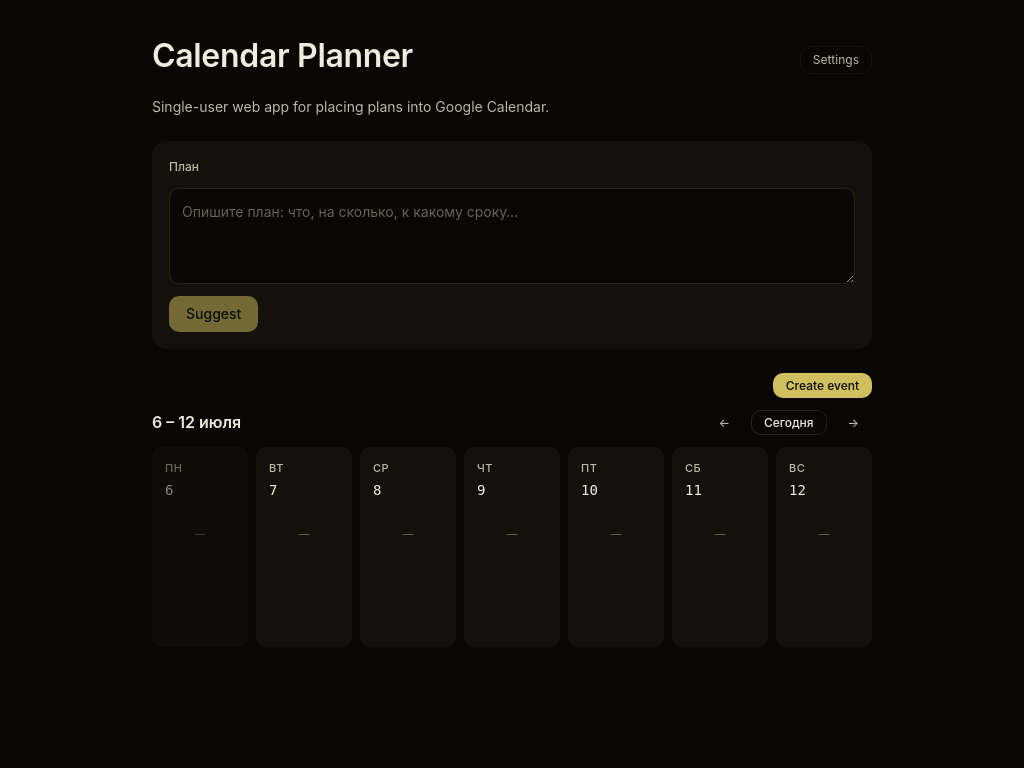
Scenario: App event creation flow › shows a success toast after the event is created
Expected: the element with test id "week-view" is shown, [152,410,872,646]
In the text box labelled "План": (512, 236) [169,188,855,284], type "x"
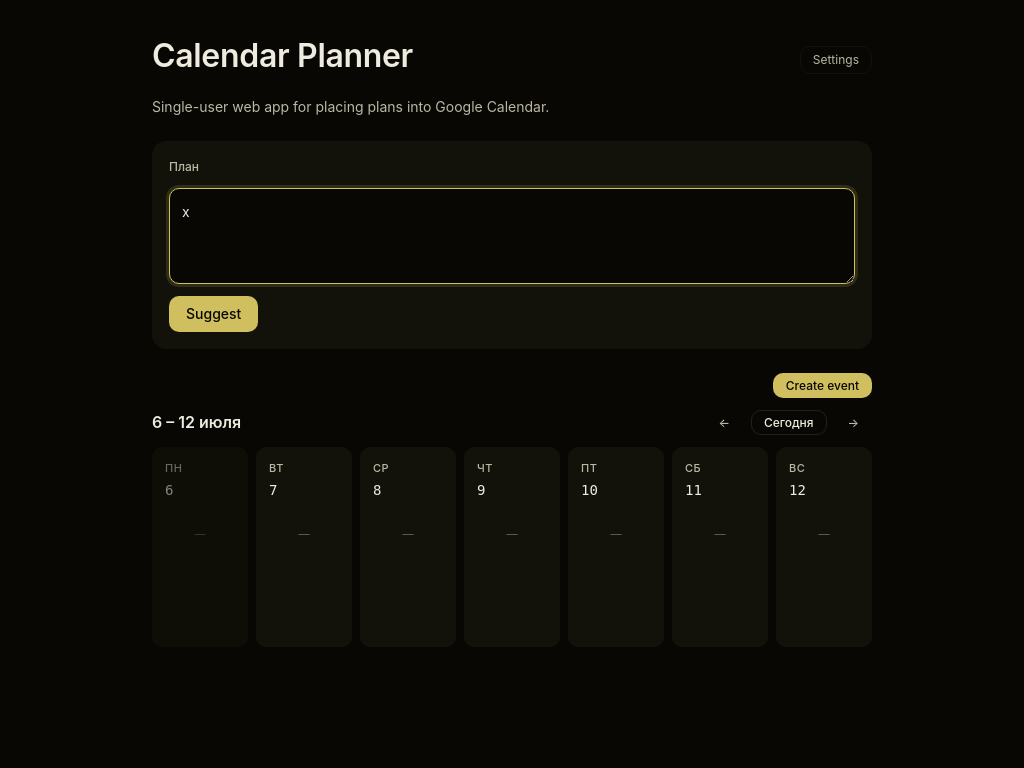
Click the button "Suggest": click(214, 314) [169,296,258,332]
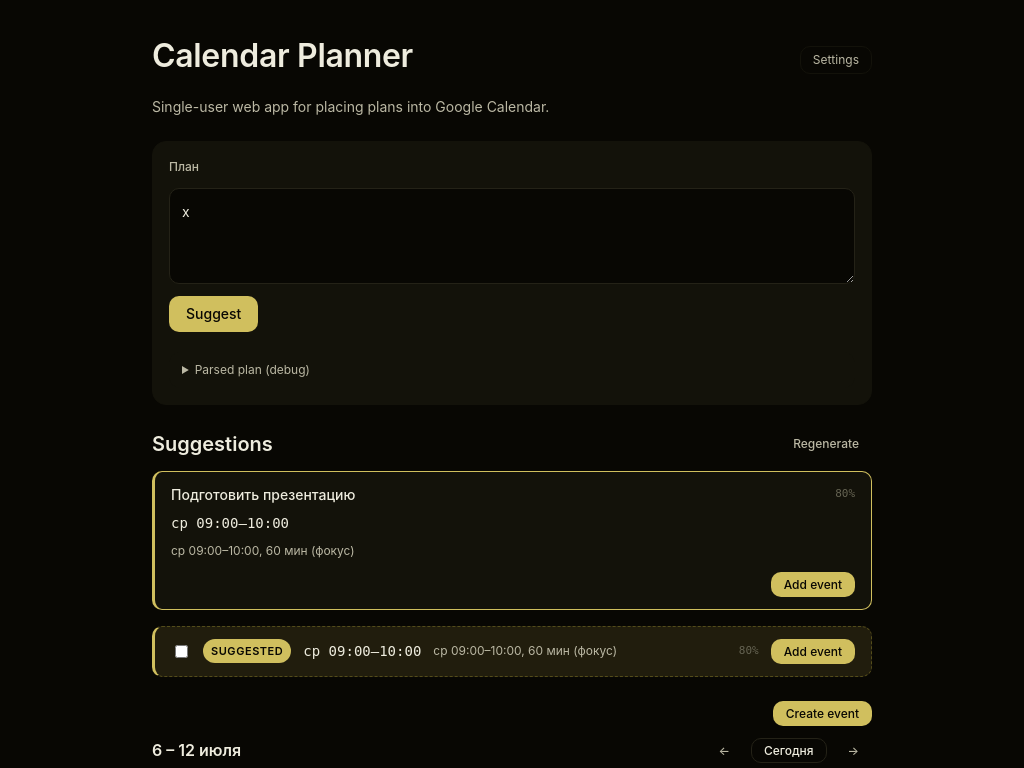
Result: the element with test id "plan-candidates" is shown at [152,470,872,610]
Click the 1st button "Add event": click(813, 584) [771,572,855,596]
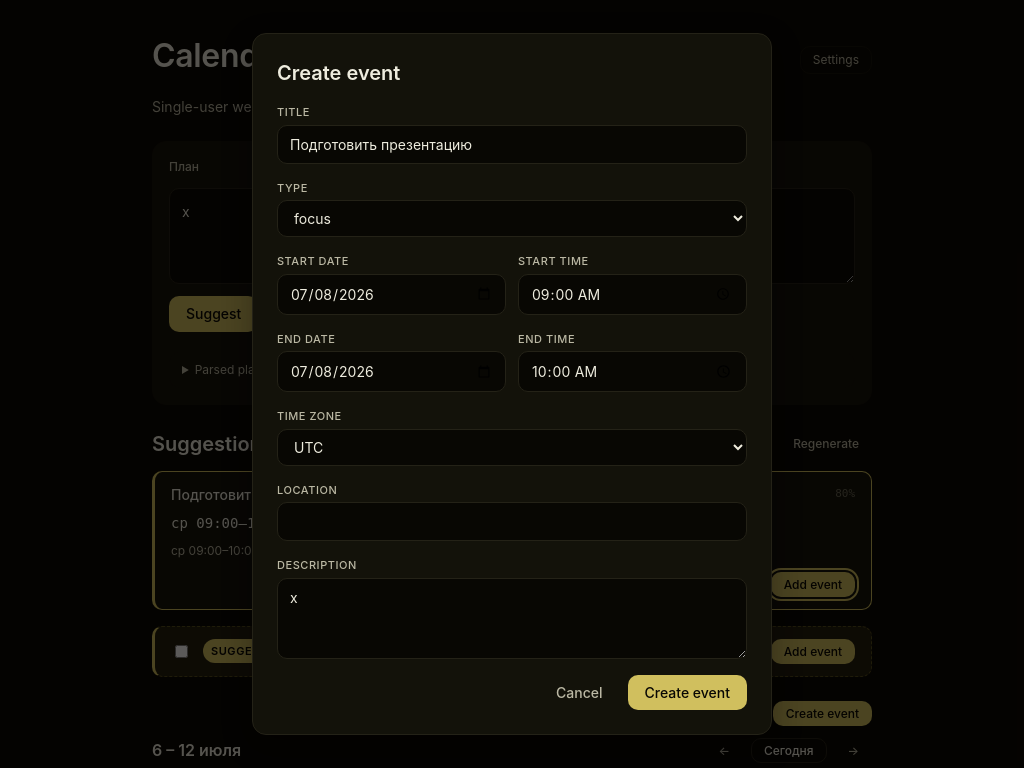
Click the button "Create event": click(687, 692) [628,674,747,710]
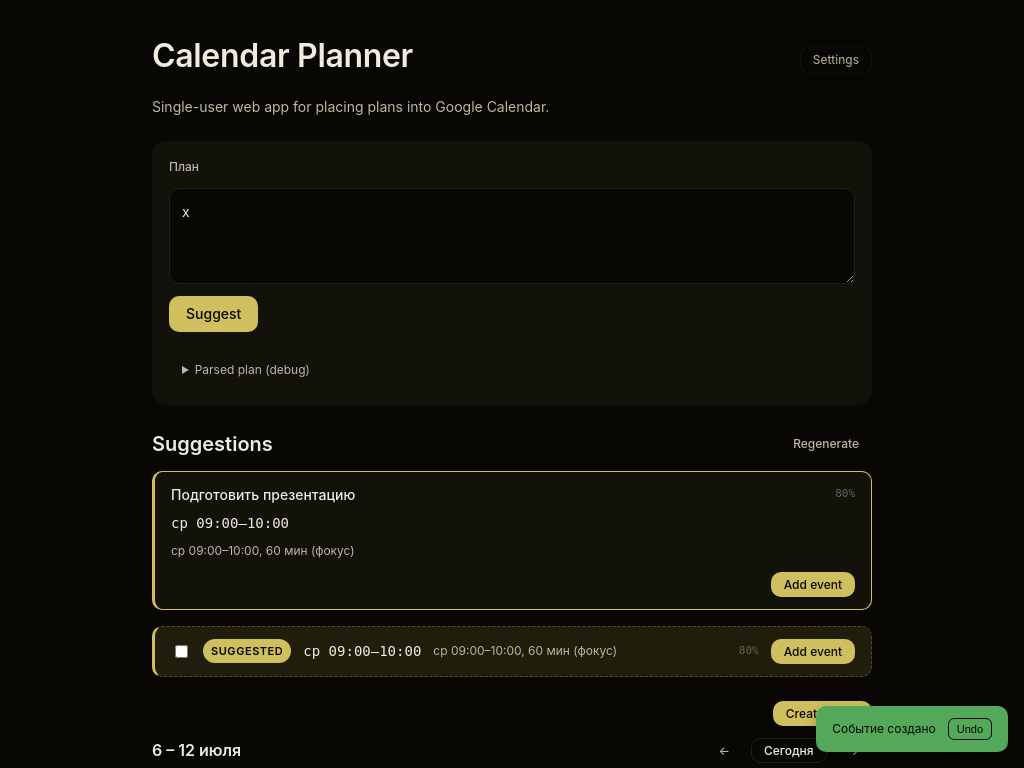
Result: the element with test id "create-toast" reads "Событие создано Undo" at [832,721,936,736]
